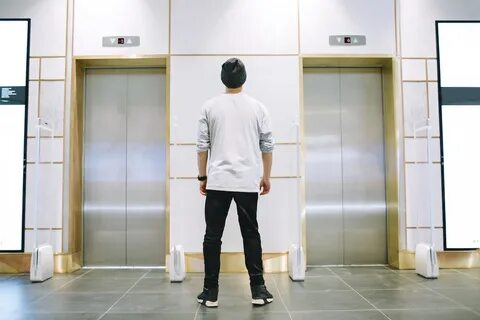awake: (193, 56, 275, 309)
